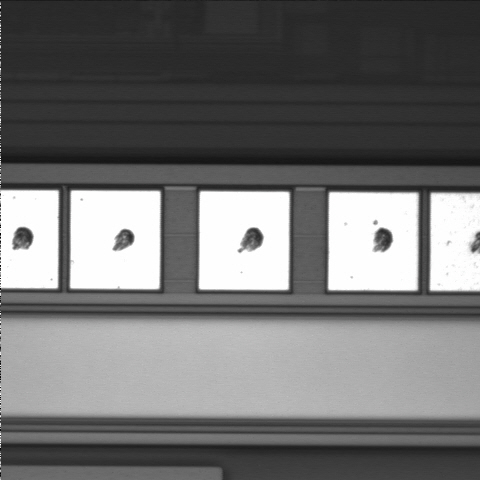pad: (199, 191, 289, 290), (70, 191, 160, 289), (328, 192, 418, 290)
